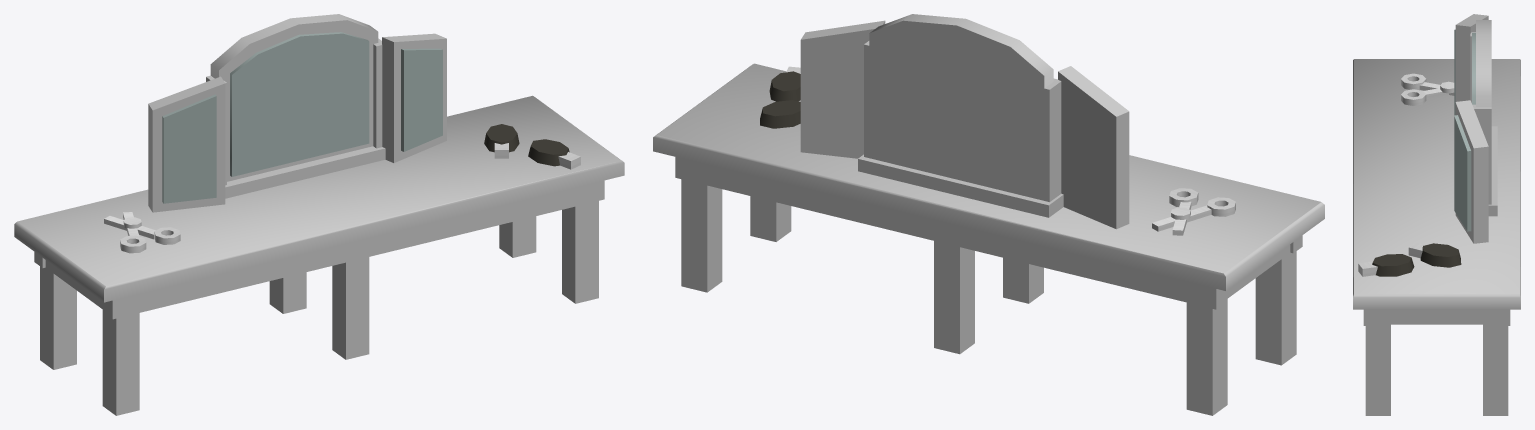
Rendered from styling_station.obj.
3 renders of one model, left to right at view 1: azimuth 30°, elevation 25°; view 2: azimuth 150°, elevation 25°; view 3: azimuth 270°, elevation 25°, orthographic. The views are drawn at different scales.
Visible parts, largest first — view 1: source_component_010, source_component_012, source_component_006, source_component_015, source_component_011, source_component_014, source_component_018, source_component_017, source_component_000, source_component_002, source_component_004, source_component_001 (+6 smaller); view 2: source_component_010, source_component_011, source_component_007, source_component_014, source_component_017, source_component_001, source_component_005, source_component_003, source_component_000, source_component_013, source_component_016, source_component_004 (+5 smaller); view 3: source_component_010, source_component_017, source_component_004, source_component_005, source_component_009, source_component_018, source_component_014, source_component_011, source_component_026, source_component_028, source_component_019, source_component_013 (+9 smaller).
Boxes of the visible parts, left/top/right/bottom form: source_component_010: left=14, top=95, right=624, bottom=302; source_component_012: left=230, top=32, right=369, bottom=176; source_component_006: left=104, top=180, right=604, bottom=319; source_component_015: left=162, top=94, right=216, bottom=203; source_component_011: left=210, top=14, right=378, bottom=181; source_component_014: left=148, top=76, right=225, bottom=212; source_component_018: left=401, top=48, right=442, bottom=151; source_component_017: left=382, top=33, right=446, bottom=162; source_component_000: left=102, top=310, right=139, bottom=415; source_component_002: left=332, top=257, right=369, bottom=359; source_component_004: left=562, top=201, right=598, bottom=303; source_component_001: left=40, top=266, right=76, bottom=369; source_component_010: left=653, top=63, right=1324, bottom=290; source_component_011: left=869, top=14, right=1053, bottom=200; source_component_007: left=675, top=157, right=1225, bottom=309; source_component_014: left=1058, top=66, right=1129, bottom=229; source_component_017: left=800, top=20, right=885, bottom=158; source_component_001: left=1186, top=299, right=1227, bottom=415; source_component_005: left=681, top=179, right=722, bottom=292; source_component_003: left=934, top=241, right=974, bottom=354; source_component_000: left=1255, top=251, right=1296, bottom=365; source_component_013: left=858, top=154, right=1063, bottom=217; source_component_016: left=1039, top=78, right=1061, bottom=202; source_component_004: left=750, top=196, right=791, bottom=241; source_component_010: left=1353, top=59, right=1520, bottom=309; source_component_017: left=1455, top=100, right=1488, bottom=243; source_component_004: left=1365, top=324, right=1390, bottom=415; source_component_005: left=1483, top=324, right=1508, bottom=415; source_component_009: left=1379, top=309, right=1494, bottom=324; source_component_018: left=1454, top=115, right=1471, bottom=231; source_component_014: left=1455, top=14, right=1488, bottom=101; source_component_011: left=1476, top=20, right=1491, bottom=106; source_component_026: left=1420, top=243, right=1461, bottom=267; source_component_028: left=1372, top=254, right=1414, bottom=276; source_component_019: left=1472, top=104, right=1491, bottom=204; source_component_013: left=1488, top=126, right=1497, bottom=216.
Bounding box in the file's own units: 2.88 × 1.53 × 0.86.
